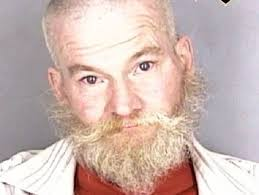middle_eastern_male: (65, 7, 175, 165)
